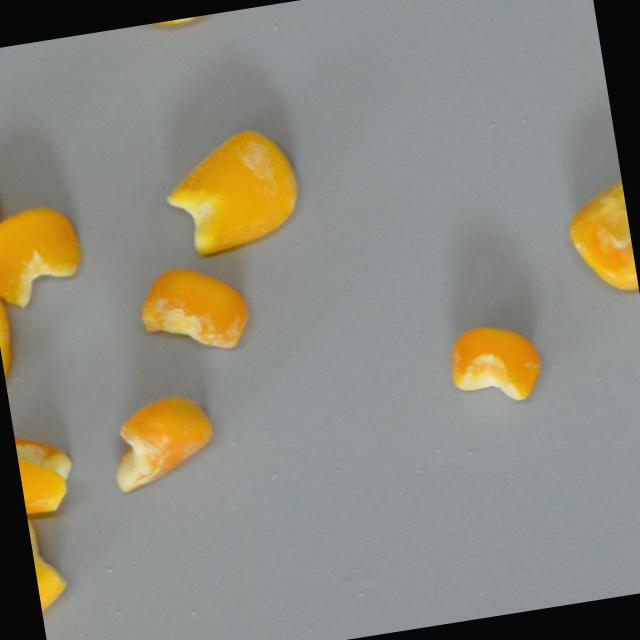no_canjicado: (156, 122, 306, 261), (0, 197, 88, 313), (444, 315, 549, 411), (13, 420, 79, 515), (26, 507, 72, 622), (0, 274, 19, 387)
no_desgerminado: (132, 254, 255, 361)
pelicula: (102, 384, 224, 495), (561, 177, 639, 299)
